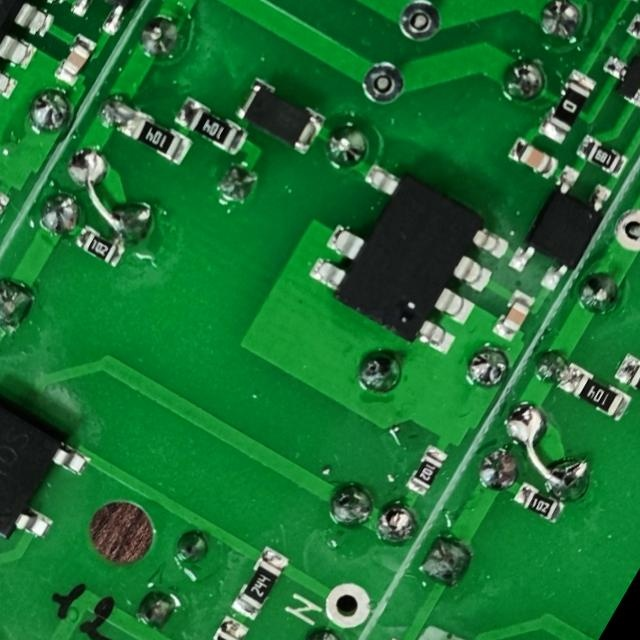chip-capacitor: (50, 30, 99, 90), (488, 286, 537, 345), (503, 135, 561, 184)
chip-resistor: (227, 541, 294, 624), (535, 66, 600, 148), (554, 360, 634, 426), (170, 94, 251, 159), (121, 106, 195, 167), (571, 130, 633, 182), (507, 477, 567, 529), (400, 440, 451, 501), (71, 221, 129, 271)
diode: (230, 73, 329, 159)
ic: (302, 153, 518, 363), (504, 160, 620, 298)
transistor: (590, 38, 640, 114)
